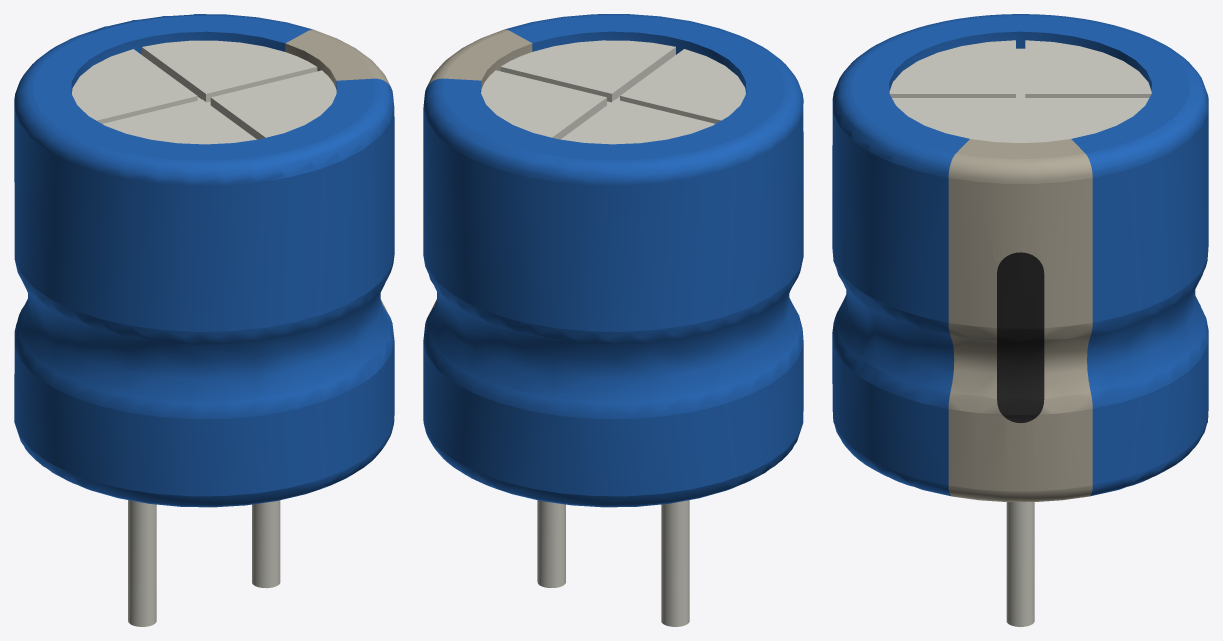
The model's file is kc-cp_radial_d4.0mm_p1.50mm.glb.
3 renders of one model, left to right at view 1: azimuth 30°, elevation 25°; view 2: azimuth 150°, elevation 25°; view 3: azimuth 270°, elevation 25°, orthographic.
Parts seen in each view (by area): view 1: 0_0.16666666666666666_0.5_0, 0.6666666666666666_0.6666666666666666_0.5833333333333334_0.8, 0.4166666666666667_0.4166666666666667_0.3333333333333333_0; view 2: 0_0.16666666666666666_0.5_0, 0.6666666666666666_0.6666666666666666_0.5833333333333334_0.8, 0.4166666666666667_0.4166666666666667_0.3333333333333333_0; view 3: 0_0.16666666666666666_0.5_0, 0.4166666666666667_0.4166666666666667_0.3333333333333333_0, 0.6666666666666666_0.6666666666666666_0.5833333333333334_0.8, 0_0_0_0.
Part boxes in pixels (x1,y1,x2,y2): 0_0.16666666666666666_0.5_0: [14, 14, 394, 507]; 0.6666666666666666_0.6666666666666666_0.5833333333333334_0.8: [72, 40, 336, 626]; 0.4166666666666667_0.4166666666666667_0.3333333333333333_0: [285, 29, 390, 316]; 0_0.16666666666666666_0.5_0: [423, 14, 803, 507]; 0.6666666666666666_0.6666666666666666_0.5833333333333334_0.8: [481, 40, 745, 626]; 0.4166666666666667_0.4166666666666667_0.3333333333333333_0: [427, 29, 532, 315]; 0_0.16666666666666666_0.5_0: [832, 14, 1208, 496]; 0.4166666666666667_0.4166666666666667_0.3333333333333333_0: [948, 139, 1092, 501]; 0.6666666666666666_0.6666666666666666_0.5833333333333334_0.8: [889, 40, 1151, 626]; 0_0_0_0: [997, 252, 1044, 423].
Bounding box in the file's own units: 0.3995 × 0.6 × 0.3996.
